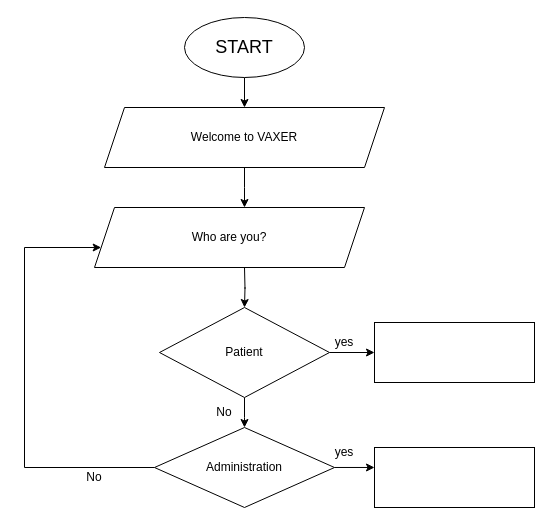
The diagram is 552 pixels wide and 525 high, and some of its shapes have lost their labels. Each missing label, with the centre of its shape:
admin(): the point at 454,477
patient(): the point at 454,352
